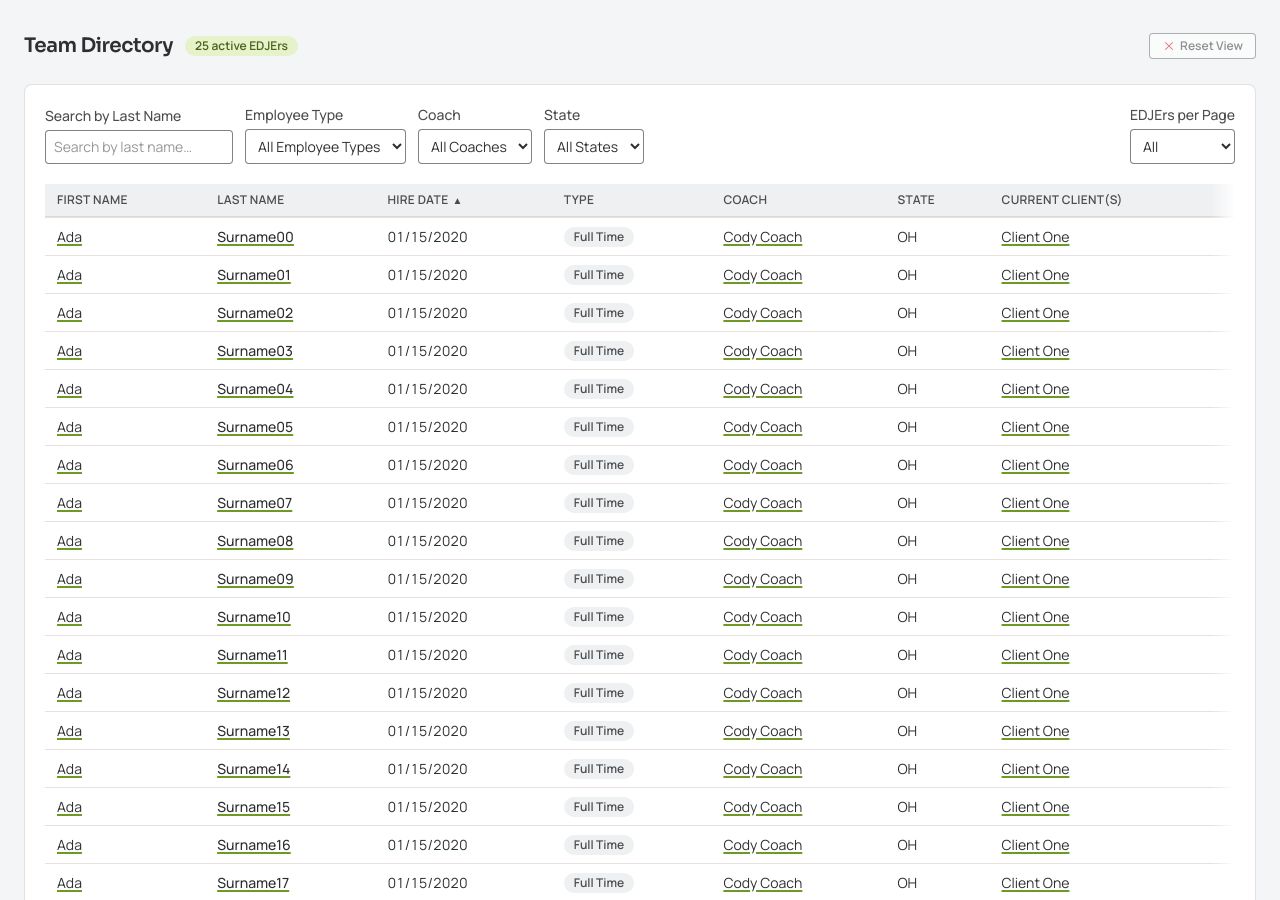
Scenario: TeamDirectoryPage › pagination › searches ACROSS pages, not within the one on screen
The image size is (1280, 900).
Select "20" in the dropdown labelled "EDJErs per Page" at (1182, 146), box [1130,129,1235,164]
(page scrolled)
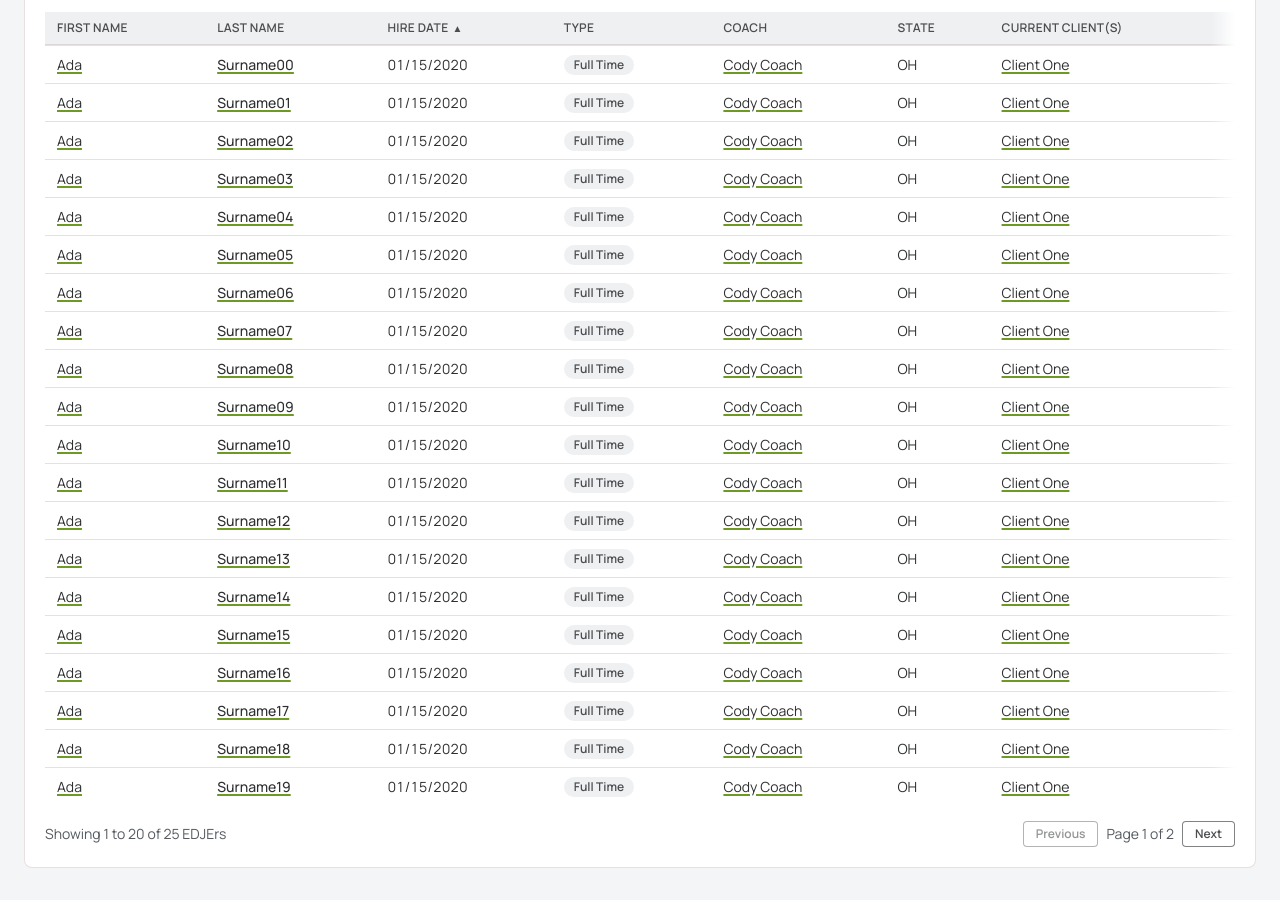
Click the button "Next" at (1208, 834), box [1182,821,1235,847]
(page scrolled)
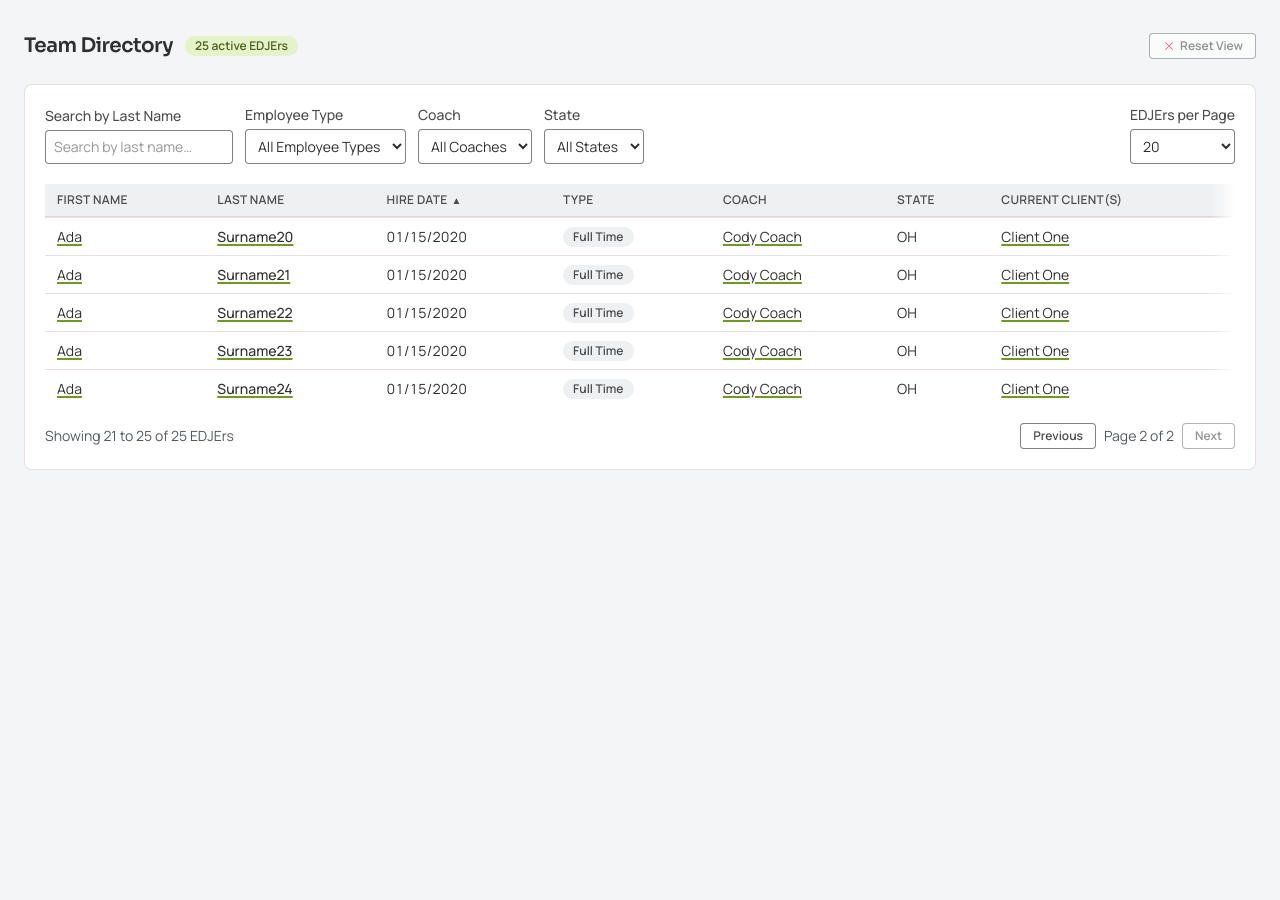
Expected: the text "Showing 21 to 25 of 25 EDJErs" is shown, [45,426,234,446]
Type "sur" into the search field labelled "Search by Last Name" at (139, 147), box [45,130,233,164]
(page scrolled)
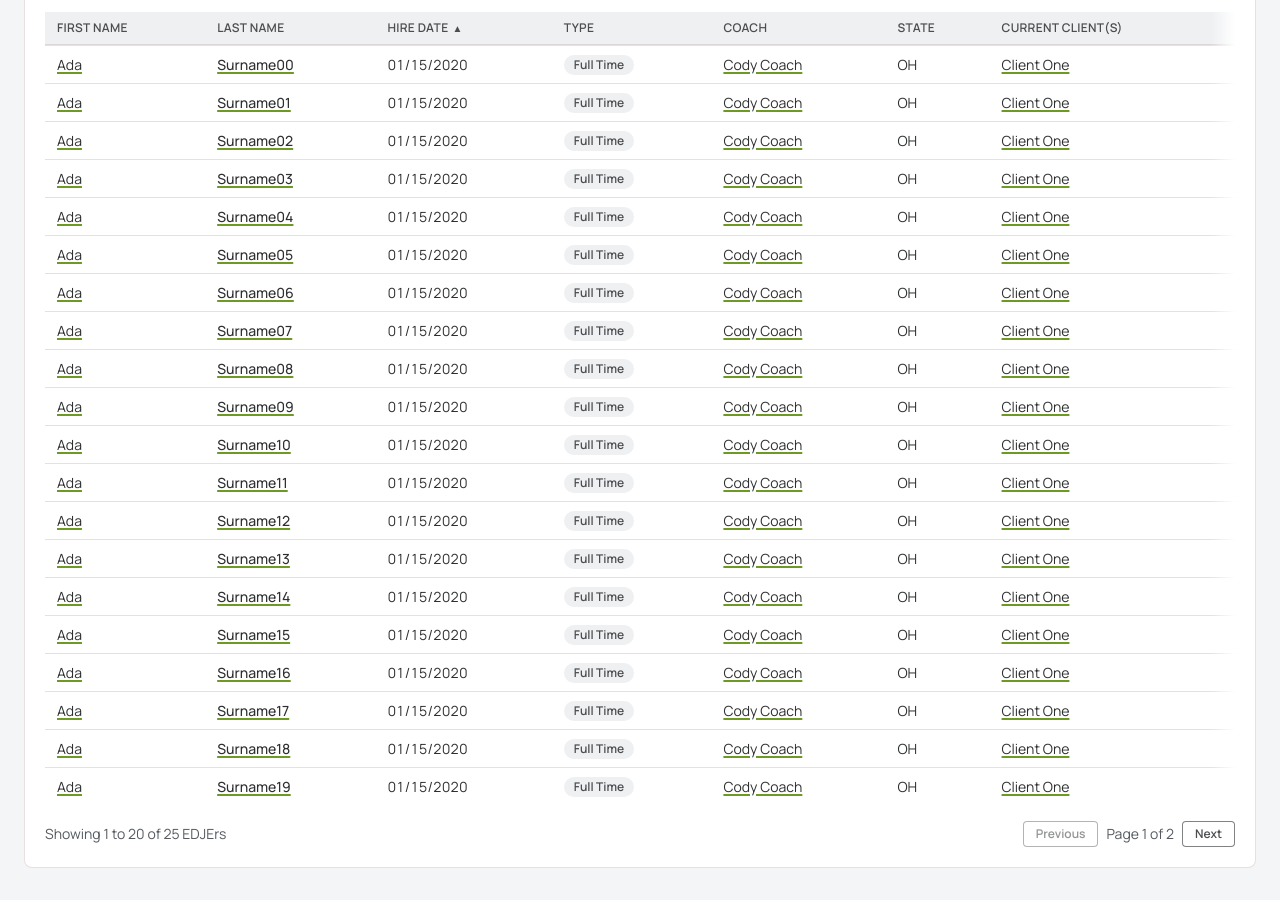
Expected: the text "Showing 1 to 20 of 25 EDJErs" is shown, [45,824,226,844]
